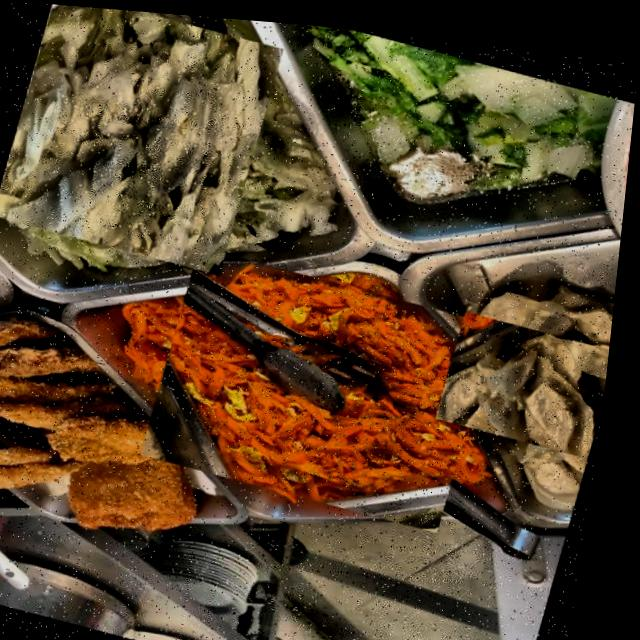Food: (143, 239, 509, 529), (0, 1, 285, 274), (457, 283, 620, 472)
